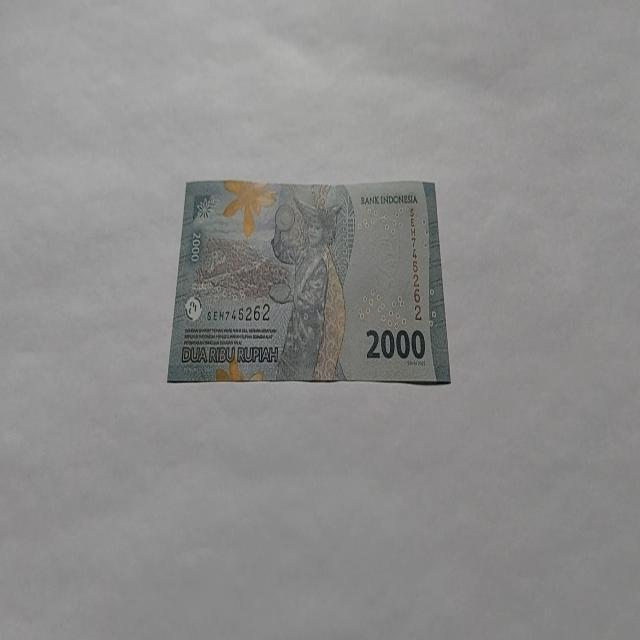dua ribu rupiah: (166, 178, 452, 385), (268, 194, 348, 382)
